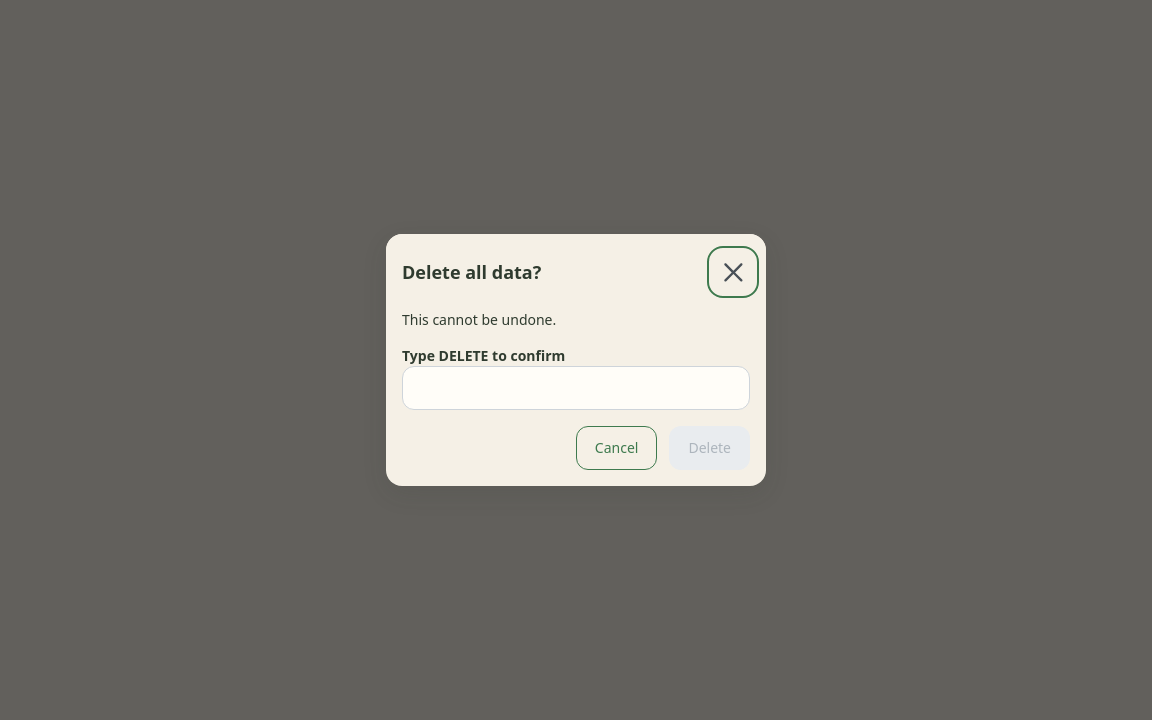
F2-16 ConfirmDialog, double › enables the confirm button only with the exact word
The image size is (1152, 720).
Check: the button "Delete" is disabled, box [669, 426, 750, 470]
Step 1. Type "delete" into the field labelled "Type DELETE to confirm" → (576, 388), box [402, 366, 750, 410]
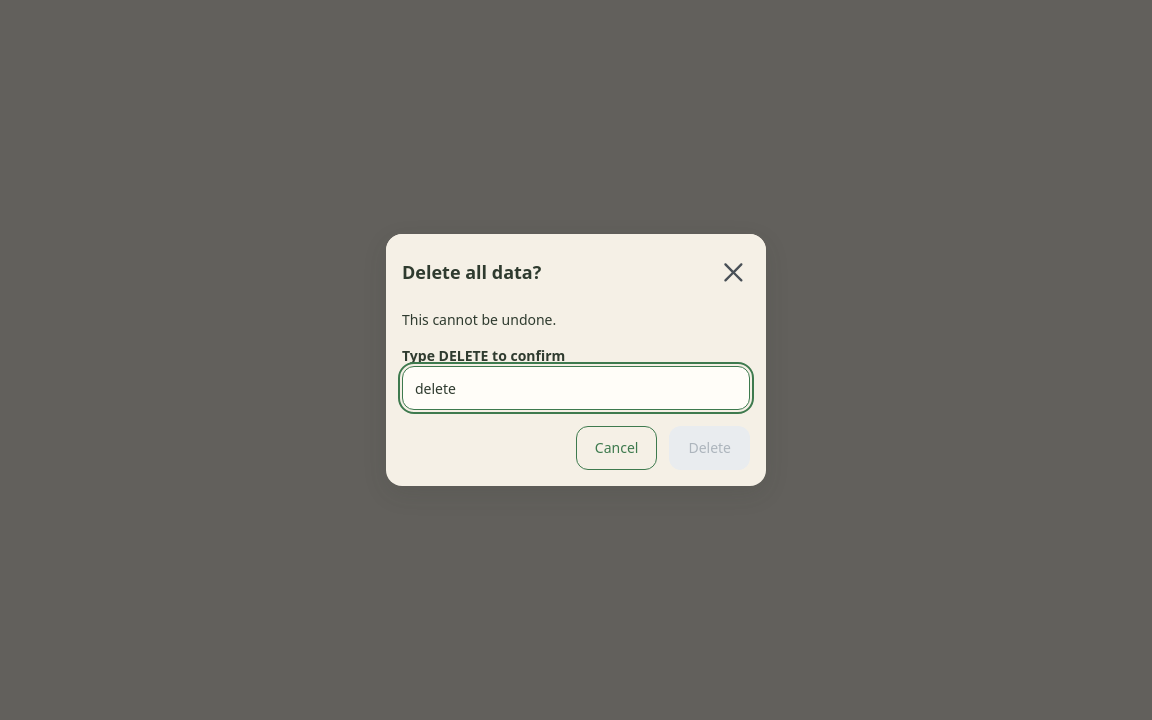
Check: the button "Delete" is disabled, box [669, 426, 750, 470]
Step 2. Replace the text in the field labelled "Type DELETE to confirm" with "DELET" → (576, 388), box [402, 366, 750, 410]
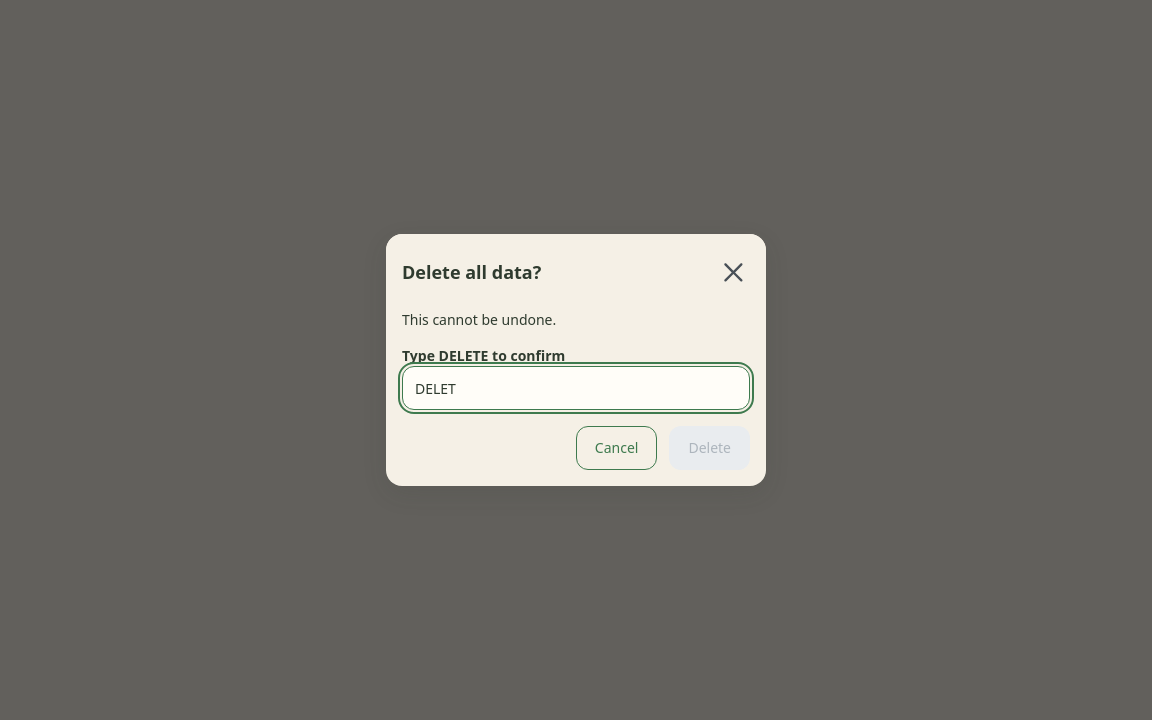
Check: the button "Delete" is disabled, box [669, 426, 750, 470]
Step 3. Replace the text in the field labelled "Type DELETE to confirm" with " DELETE" → (576, 388), box [402, 366, 750, 410]
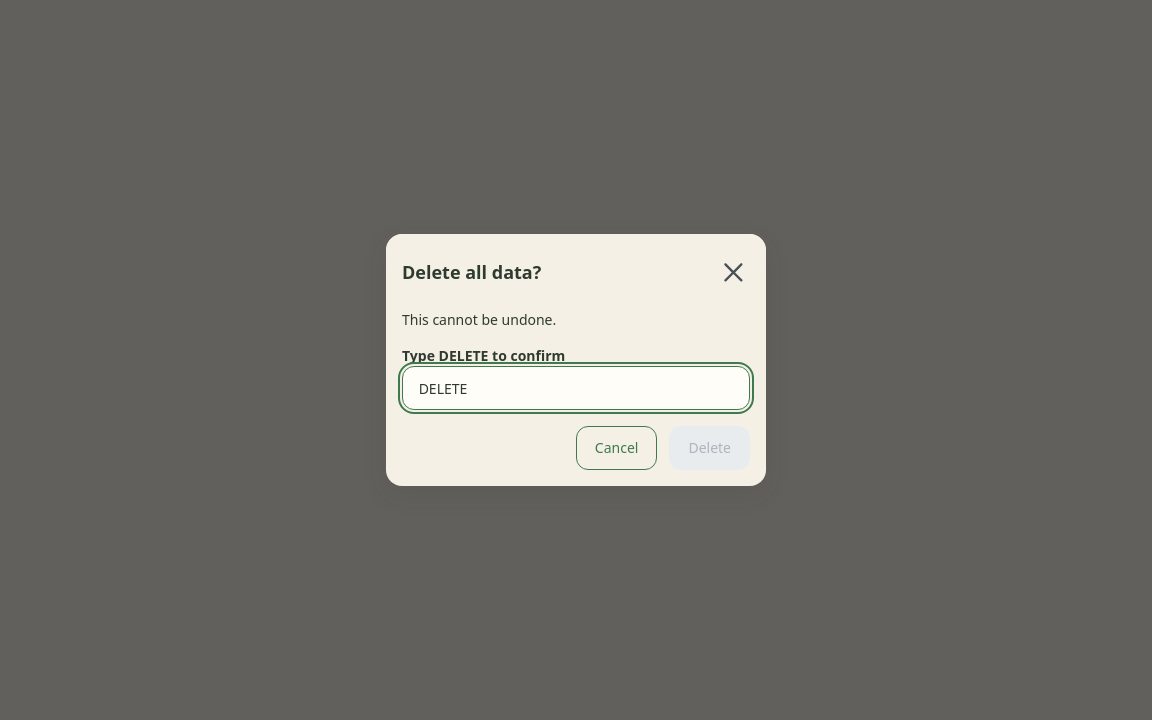
Check: the button "Delete" is disabled, box [669, 426, 750, 470]
Step 4. Replace the text in the field labelled "Type DELETE to confirm" with "DELETE " → (576, 388), box [402, 366, 750, 410]
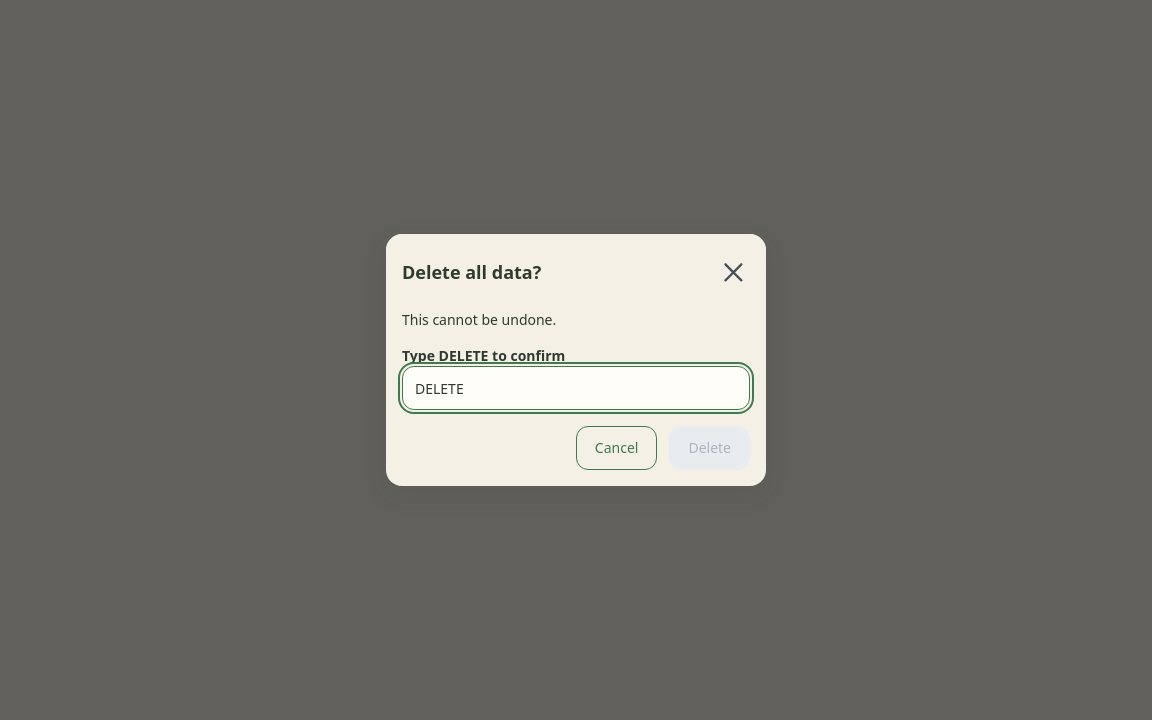
Check: the button "Delete" is disabled, box [669, 426, 750, 470]
Step 5. Replace the text in the field labelled "Type DELETE to confirm" with "DELETED" → (576, 388), box [402, 366, 750, 410]
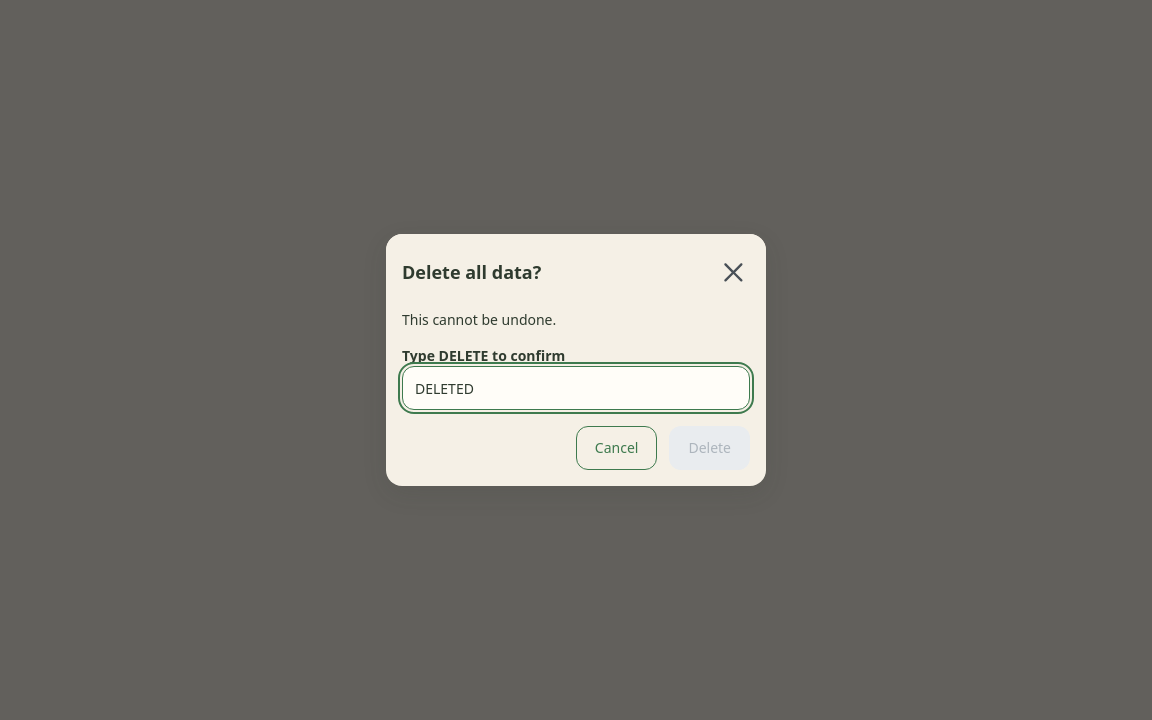
Check: the button "Delete" is disabled, box [669, 426, 750, 470]
Step 6. Replace the text in the field labelled "Type DELETE to confirm" with "DELETE" → (576, 388), box [402, 366, 750, 410]
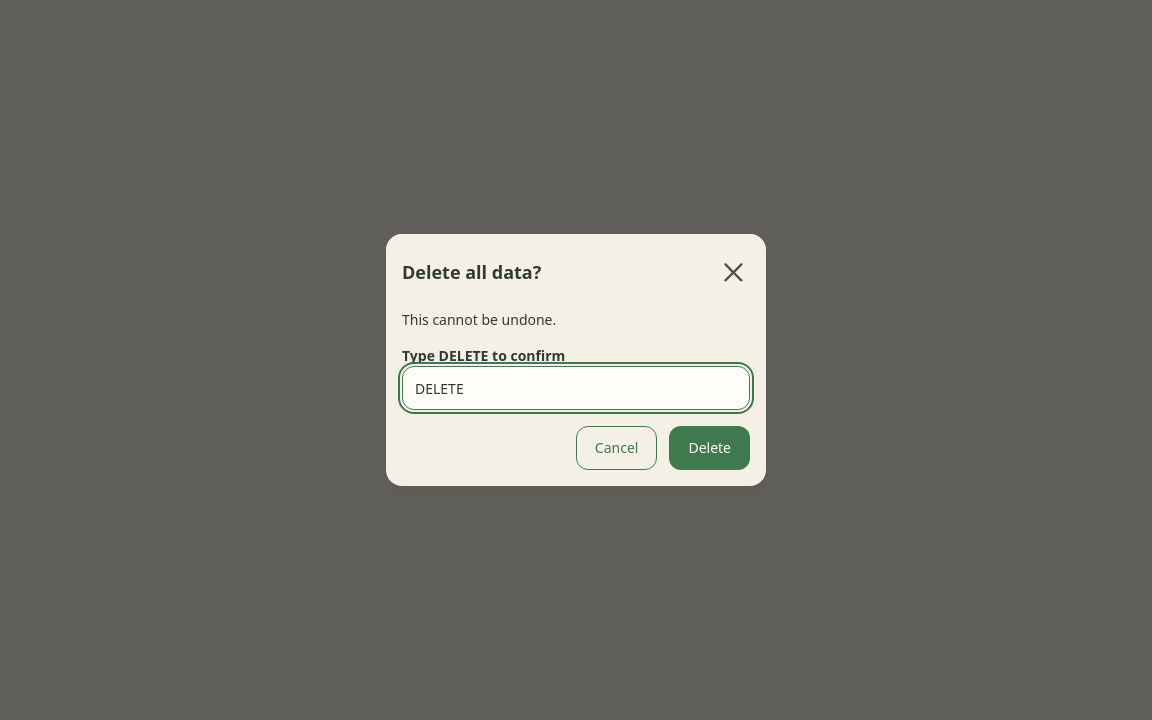
Check: the button "Delete" is enabled, box [669, 426, 750, 470]
